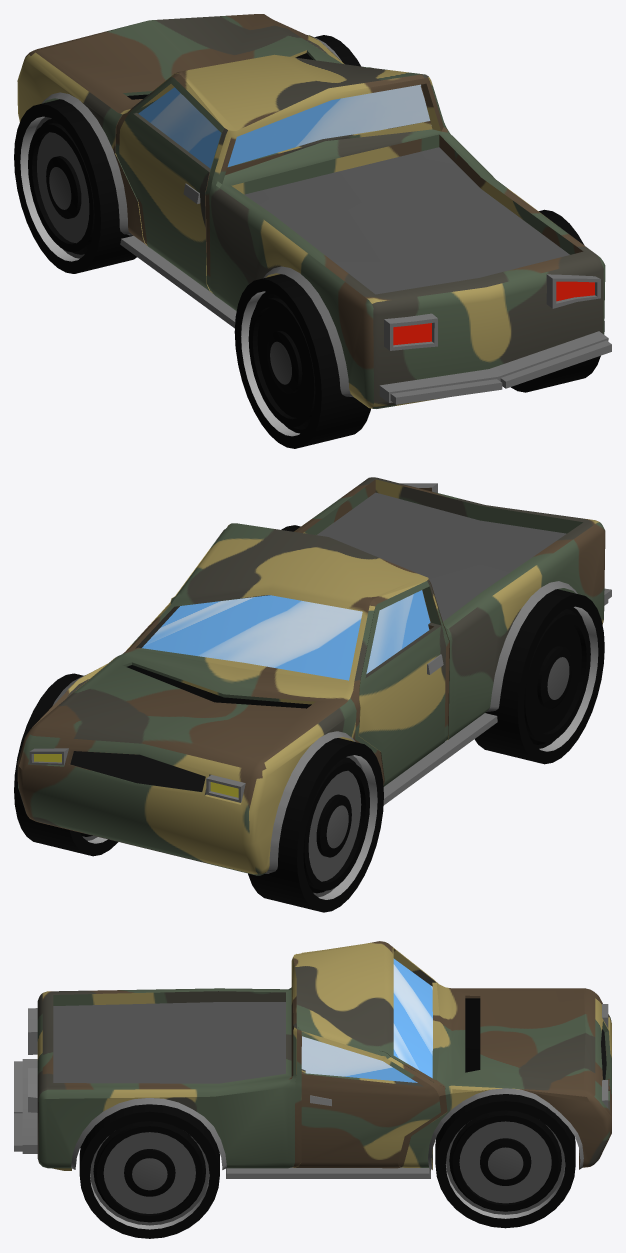
Rendered from truckcrash.fbx.
The picture shows the model from 3 angles, top to bottom: view 1: azimuth 30°, elevation 25°; view 2: azimuth 150°, elevation 25°; view 3: azimuth 270°, elevation 25°; orthographic projection. The views are drawn at different scales.
Parts seen in each view (by area): view 1: Cube.002, Cylinder.006, Cylinder.004, Cylinder.008; view 2: Cube.002, Cylinder.004, Cylinder.006, Cylinder.007; view 3: Cube.002, Cylinder.008, Cylinder.007.
Part boxes in pixels (x1,y1,x2,y2): Cube.002: (17,14,611,408); Cylinder.006: (234,274,370,448); Cylinder.004: (14,99,136,273); Cylinder.008: (511,209,604,392); Cube.002: (17,477,611,875); Cylinder.004: (248,738,383,912); Cylinder.006: (474,589,604,764); Cylinder.007: (14,673,118,856); Cube.002: (14,941,611,1178); Cylinder.008: (79,1104,219,1238); Cylinder.007: (435,1094,575,1228).
Size of the model in its own units: 209 by 179 by 475.
3 materials, 3 textured.
